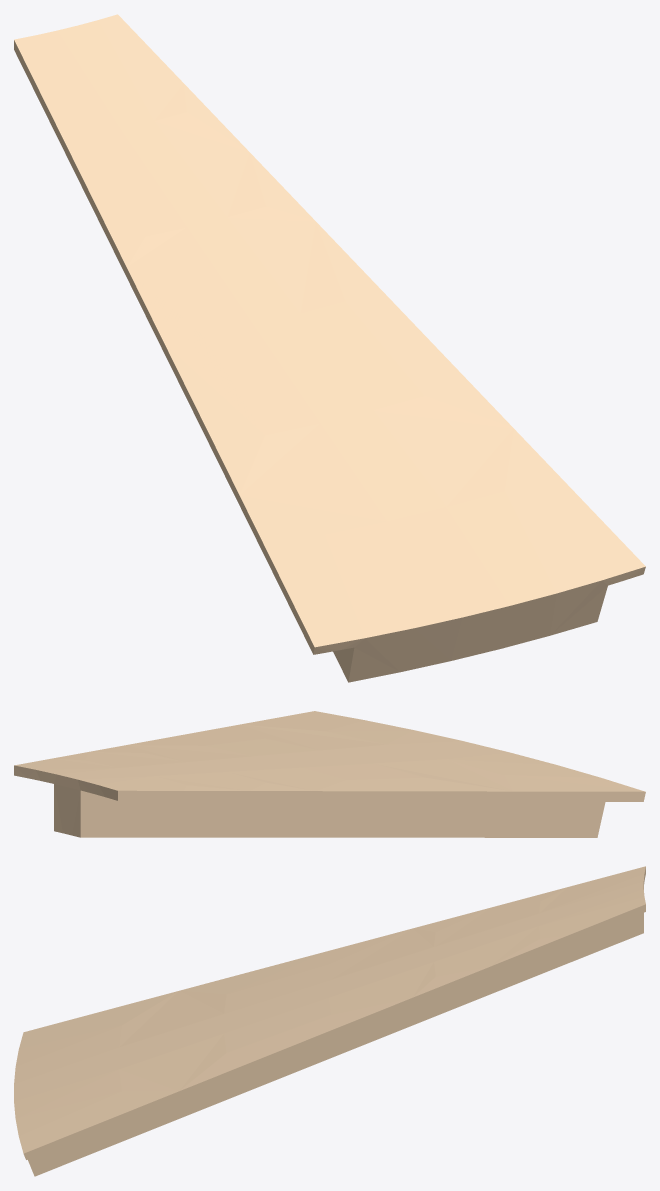
Rendered from BallMill_Overflow_EndLiner_Rubber_ChannelBolted_[W9_5724_4].glb.
3 views of the same model, one above another, from view 1: azimuth 30°, elevation 25°; view 2: azimuth 150°, elevation 25°; view 3: azimuth 270°, elevation 25° (orthographic). The views are drawn at different scales.
Visible parts, largest first — view 1: Node1; view 2: Node1; view 3: Node1.
Boxes of the visible parts, x1,y1,x2,y2 form: Node1: (14, 14, 645, 682); Node1: (14, 711, 645, 837); Node1: (14, 866, 645, 1176).
Size of the model in its own units: 0.5458 by 0.5155 by 1.2.
